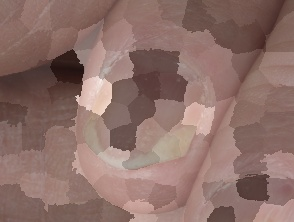Nail_psoriasis: (64, 23, 241, 204)
